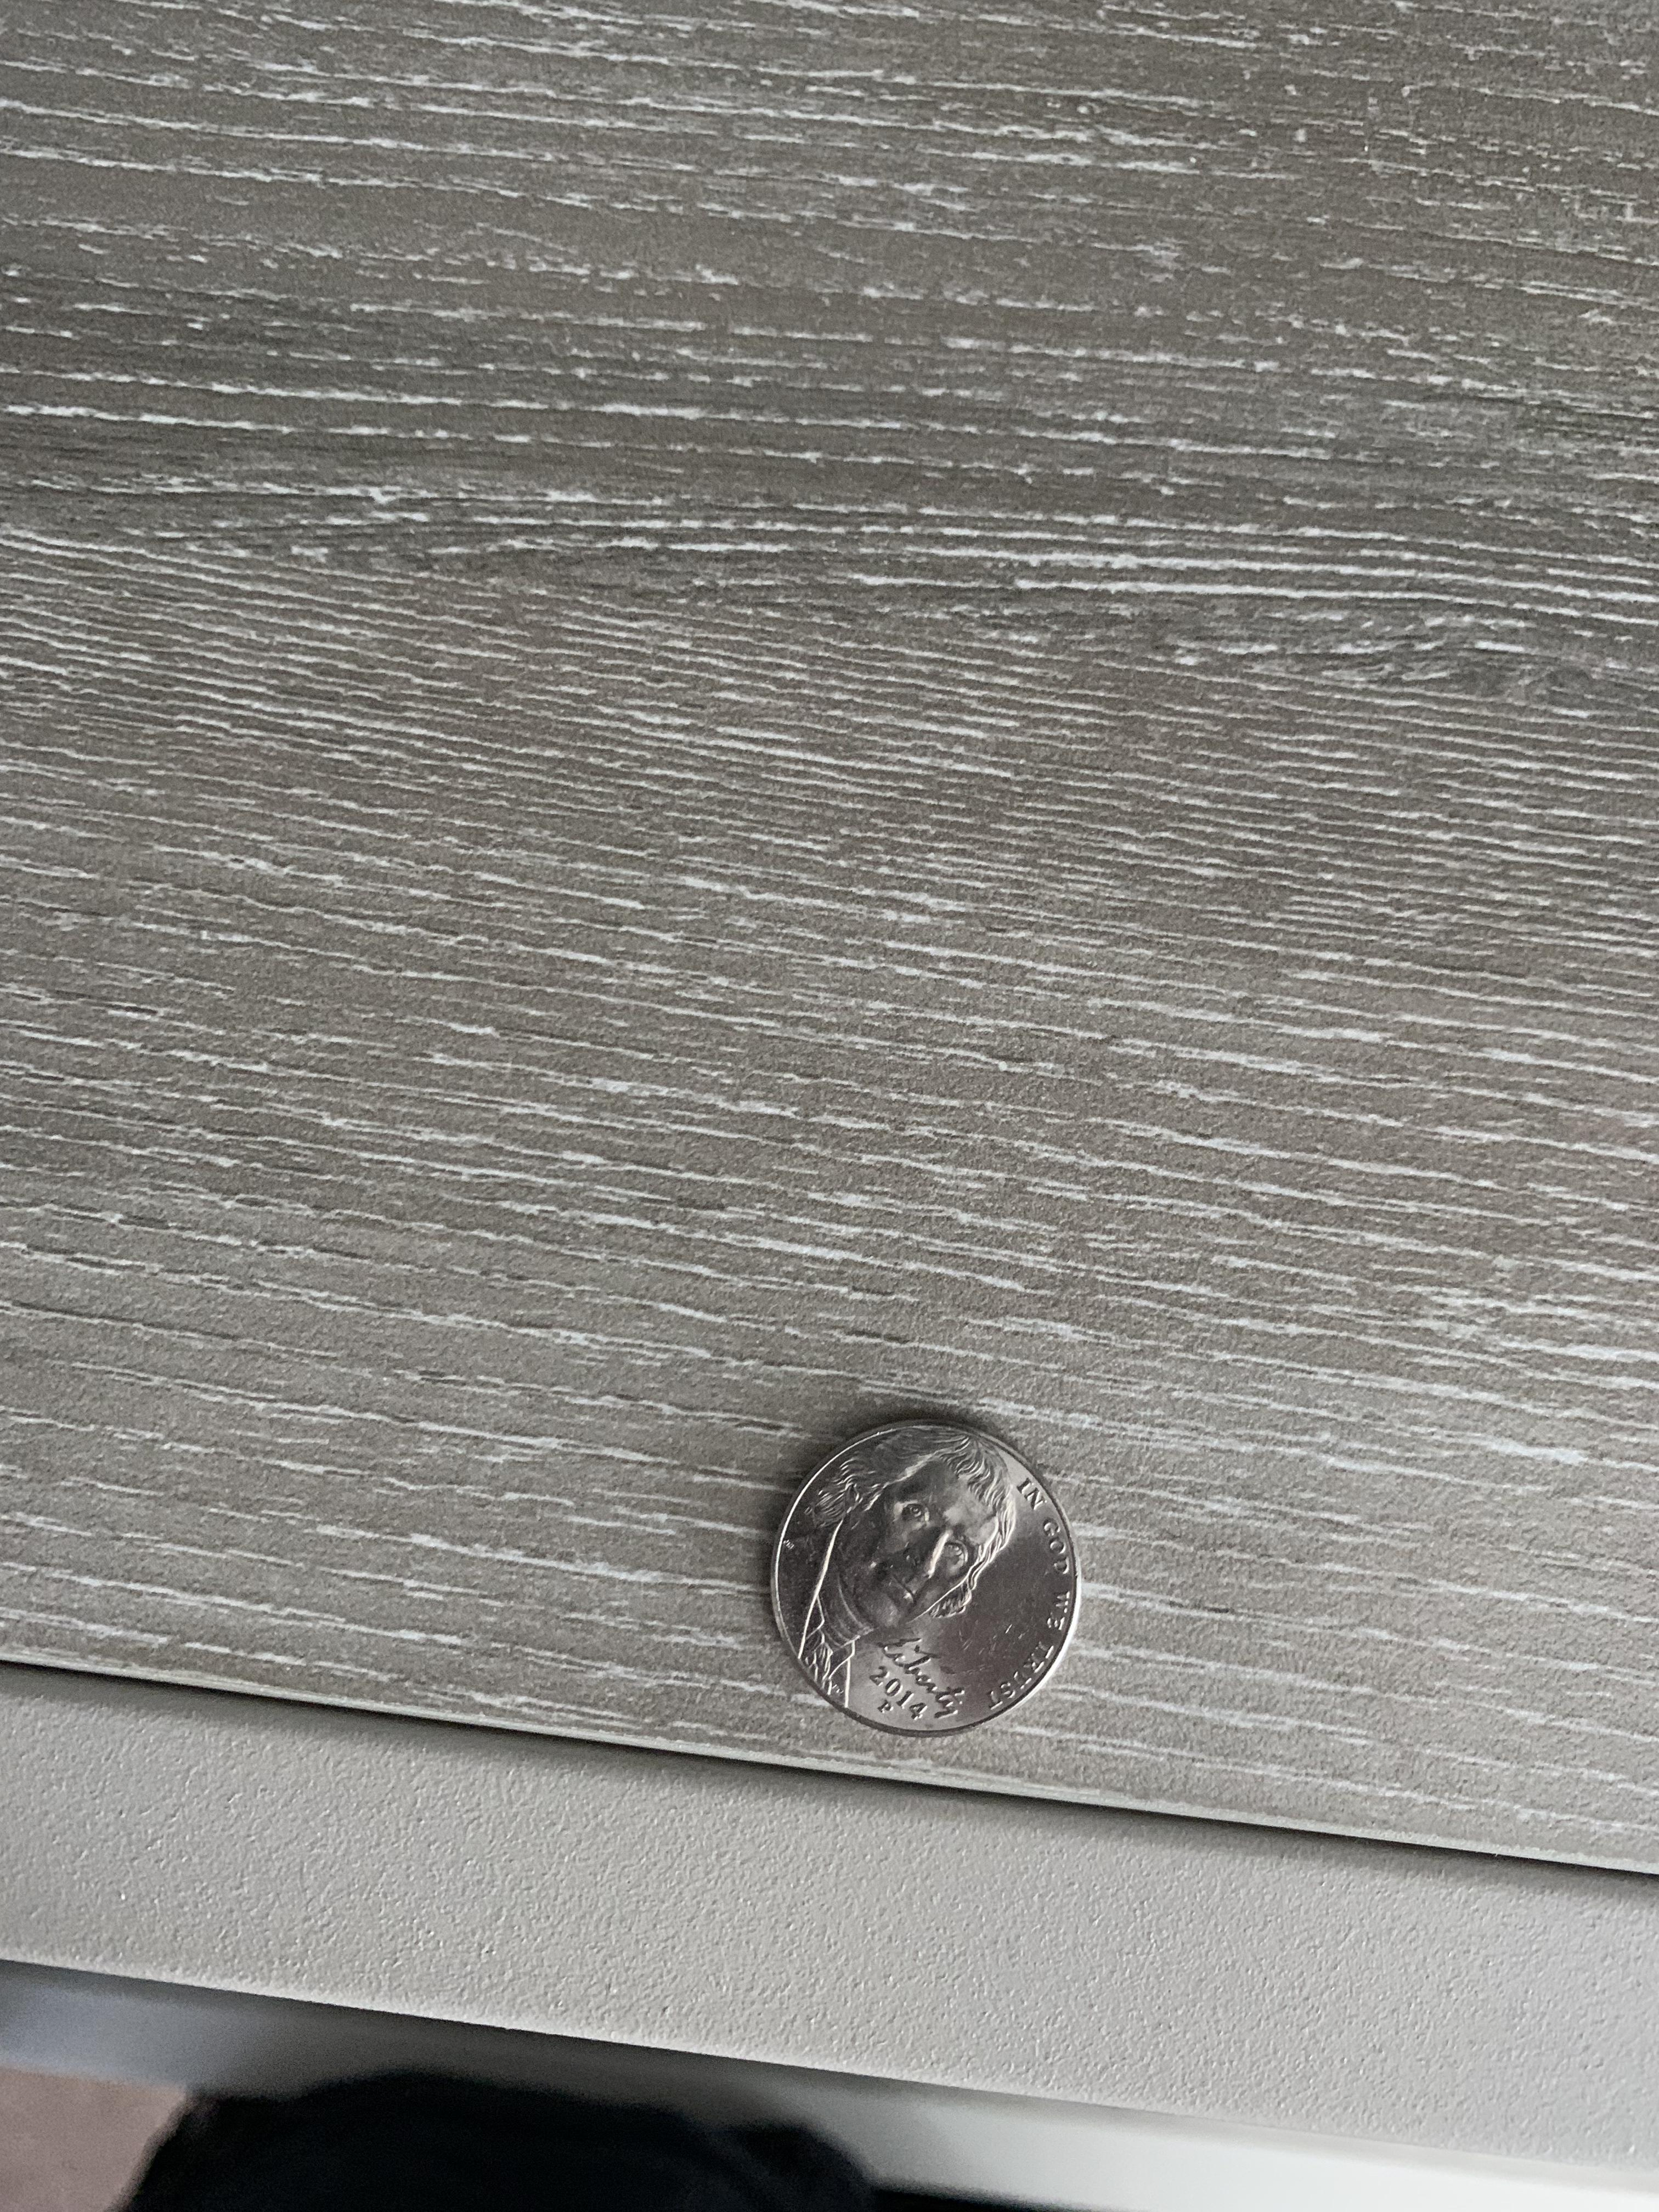Nickel: (744, 1366, 1091, 1780)
